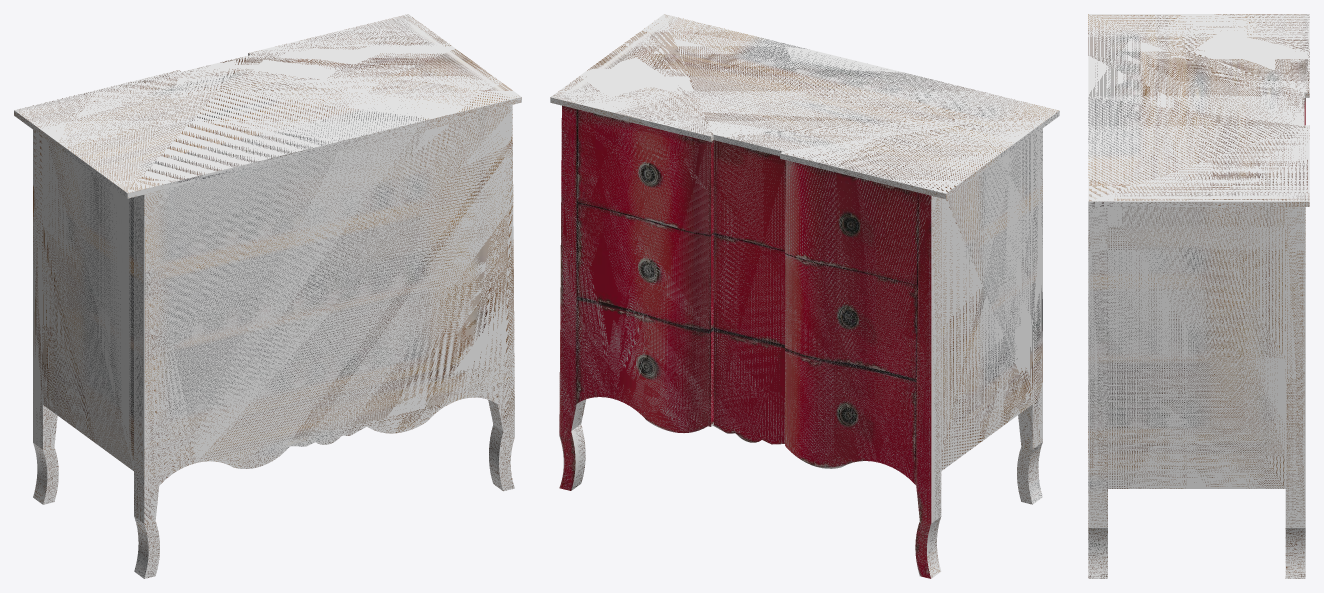
3 views of the same model, side by side, from view 1: azimuth 30°, elevation 25°; view 2: azimuth 150°, elevation 25°; view 3: azimuth 270°, elevation 25° (orthographic). The views are drawn at different scales.
Parts seen in each view (by area): view 1: mesh1_mesh1-geometry; view 2: mesh1_mesh1-geometry; view 3: mesh1_mesh1-geometry.
Part boxes in pixels (left/top/right/bottom): mesh1_mesh1-geometry: left=14, top=14, right=521, bottom=578; mesh1_mesh1-geometry: left=550, top=14, right=1059, bottom=578; mesh1_mesh1-geometry: left=1088, top=14, right=1309, bottom=578.
Bounding box in the file's own units: 0.6835 × 0.6455 × 0.3407.
